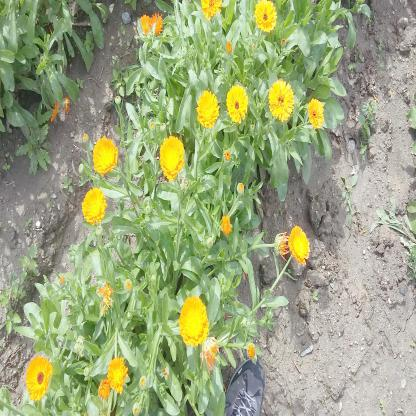marigold: (180, 297, 208, 345), (270, 80, 294, 122), (159, 137, 184, 176), (27, 355, 50, 397), (93, 136, 118, 172), (82, 187, 106, 222), (225, 86, 249, 120), (196, 91, 219, 126), (290, 225, 310, 264), (255, 2, 276, 34), (109, 360, 125, 392), (307, 100, 324, 127), (140, 15, 151, 36), (152, 14, 163, 34)
